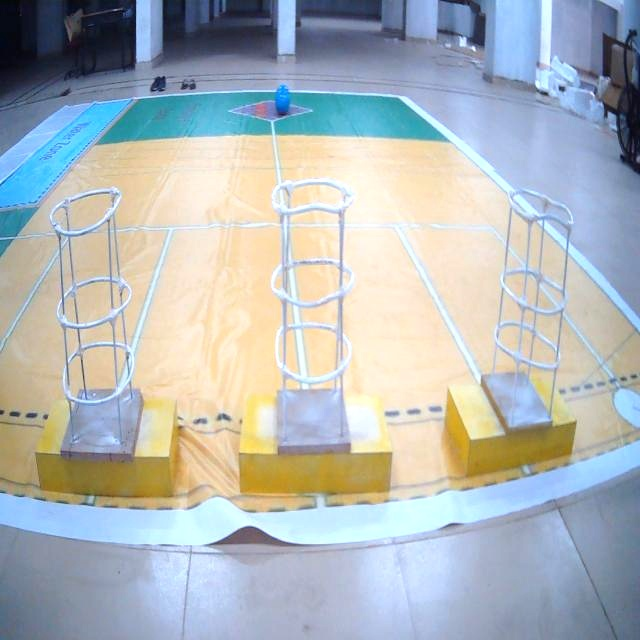silo: (47, 184, 141, 468), (268, 182, 356, 458), (486, 182, 571, 434)
